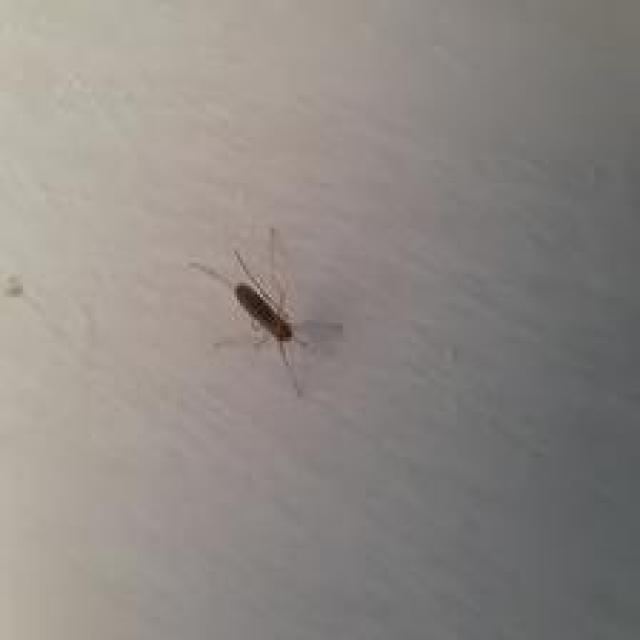Culex: (233, 280, 296, 366)
